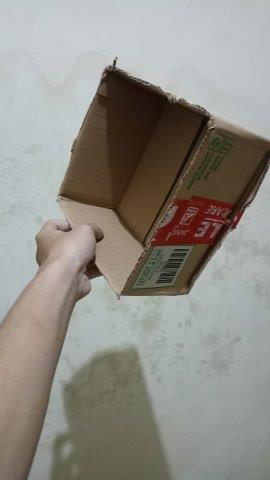kardus: (59, 65, 265, 296)
